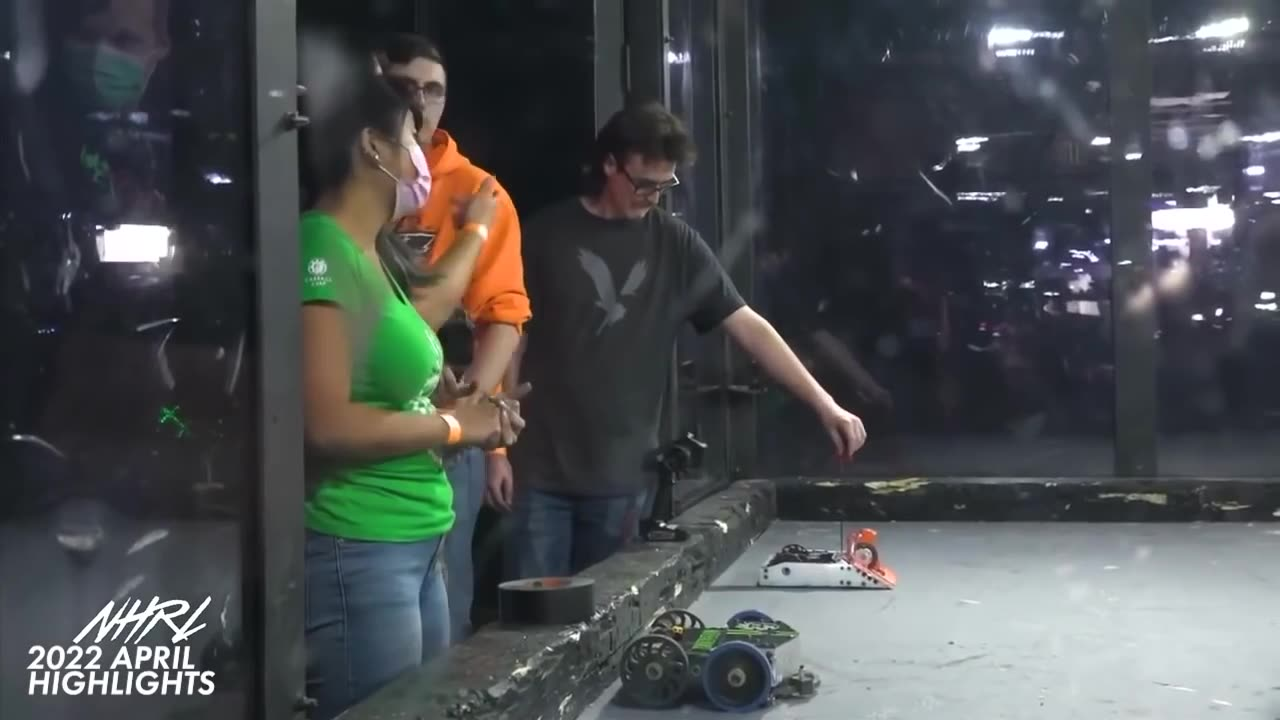combatbot: (622, 611, 811, 708), (758, 536, 894, 592)
